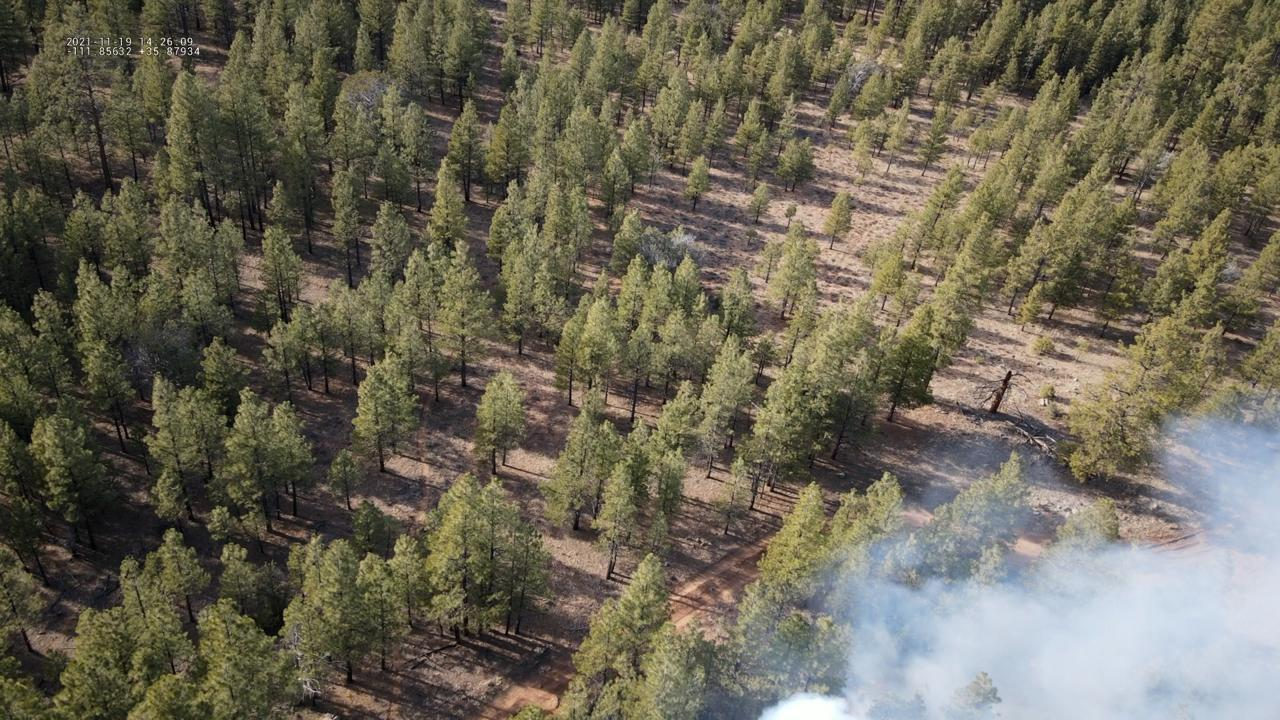smoke: (744, 407, 1280, 720)
